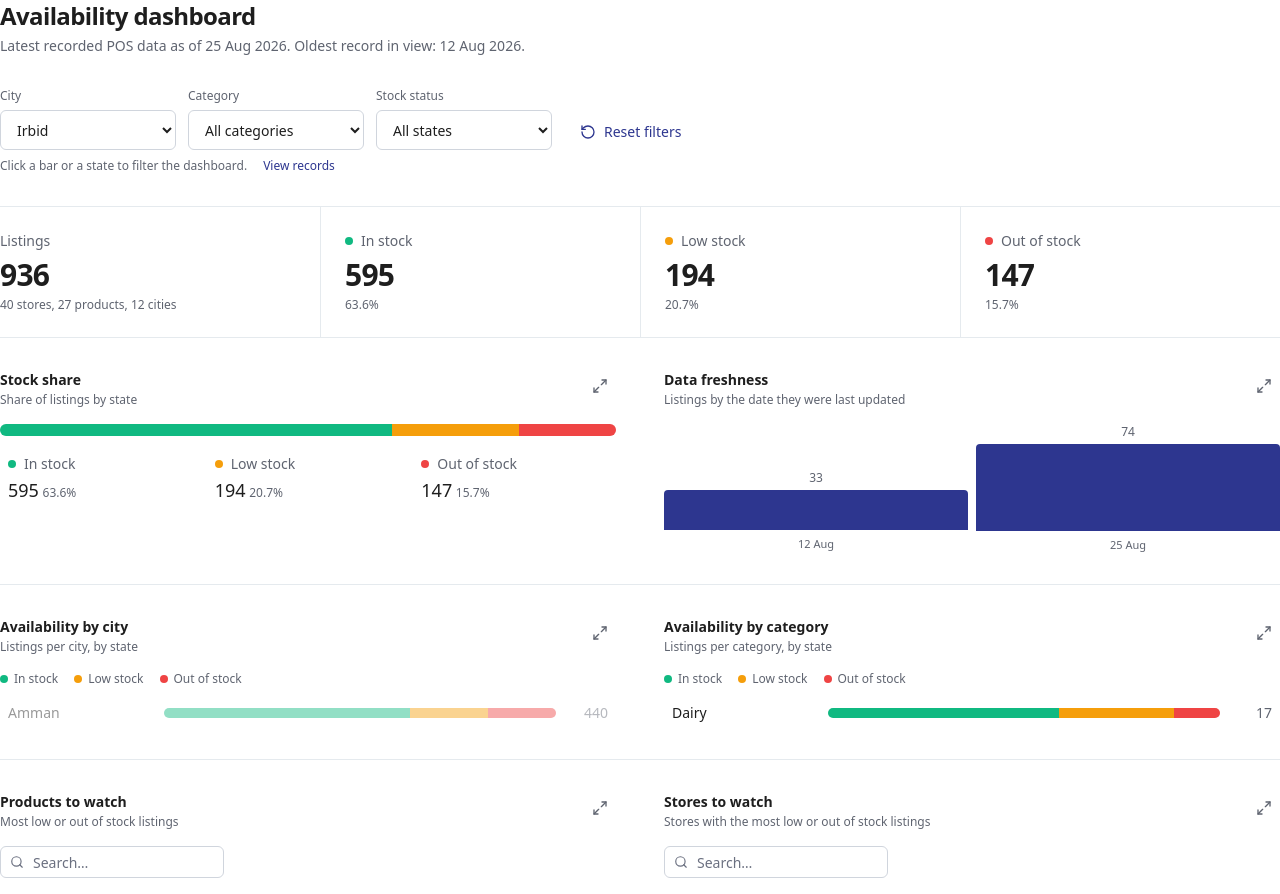
Test case: interactive dashboard › offers the records for the active filters, and warns when the list is truncated
This screenshot has width=1280, height=894.
Click the button "View records": (299, 166) [263,158,335,174]
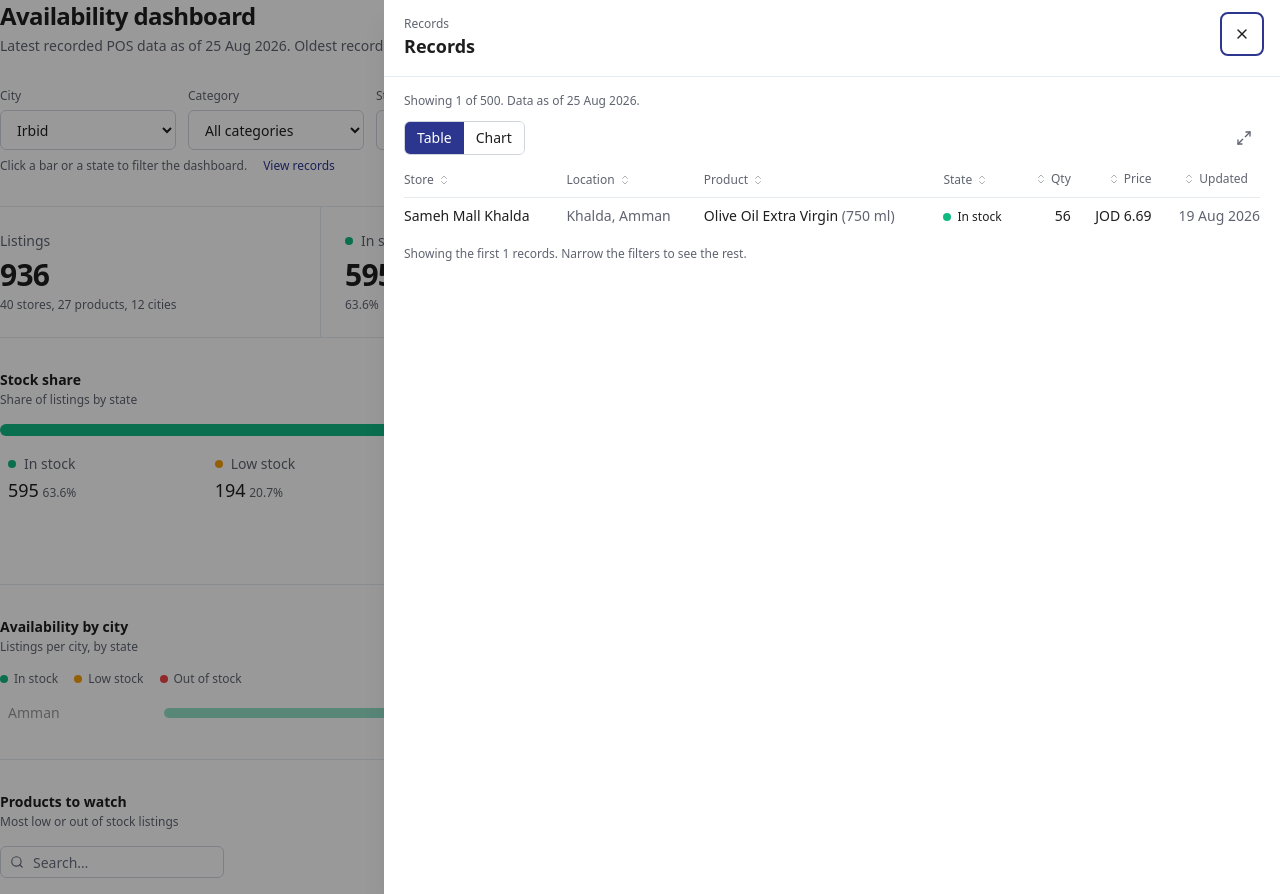
Now the text "Showing the first 1 records. Narrow the filters to see the rest." is shown, box [404,245,747,262]
